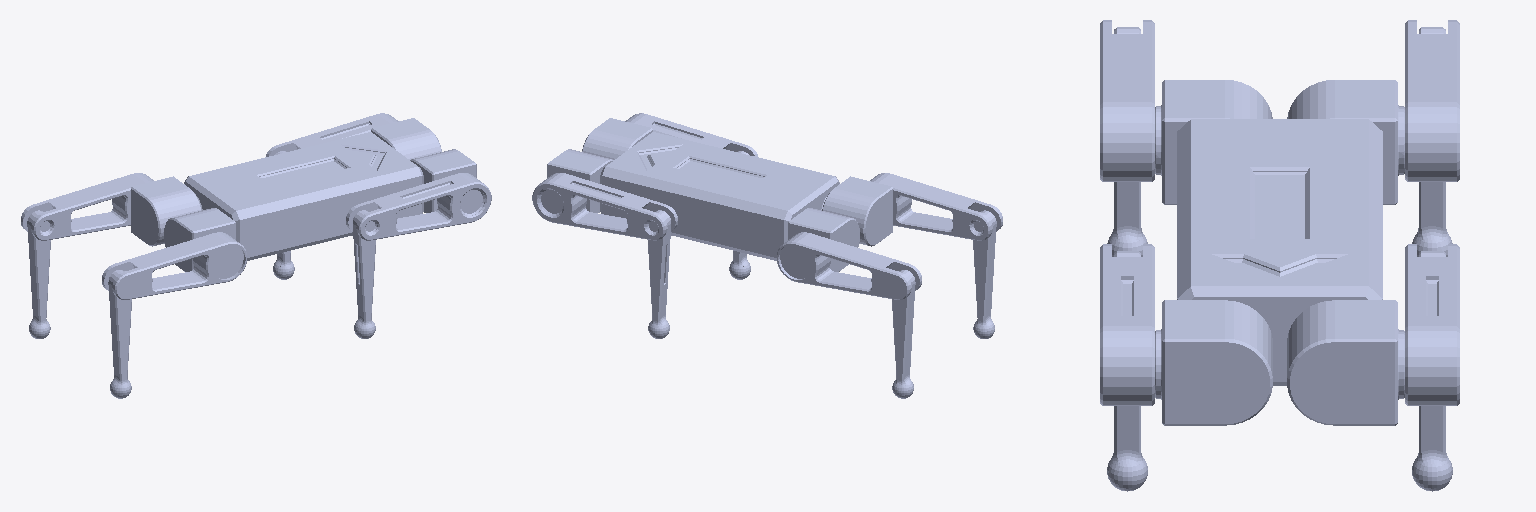
The robot description file, URDF, robot "A001_full_assem":
<?xml version="1.0" encoding="utf-8"?>
<!-- This URDF was automatically created by SolidWorks to URDF Exporter! Originally created by [author] ([email redacted]) 
     Commit Version: 1.5.1-0-g916b5db  Build Version: 1.5.7152.31018
     For more information, please see http://wiki.ros.org/sw_urdf_exporter -->
<robot
  name="A001_full_assem">
  <link
    name="body">
    <inertial>
      <origin
        xyz="-0.000174571226719436 9.06240092126826E-18 -0.000317634800286892"
        rpy="0 0 0" />
      <mass
        value="3.53421059124483" />
      <inertia
        ixx="0.0082468084514557"
        ixy="-7.60265025238063E-17"
        ixz="2.35072626787776E-05"
        iyy="0.0288201000684999"
        iyz="-1.52363759666145E-17"
        izz="0.0334951886292465" />
    </inertial>
    <visual>
      <origin
        xyz="0 0 0"
        rpy="0 0 0" />
      <geometry>
        <mesh
          filename="package://A001_full_assem/meshes/body.STL" />
      </geometry>
      <material
        name="">
        <color
          rgba="0.792156862745098 0.819607843137255 0.933333333333333 1" />
      </material>
    </visual>
    <collision>
      <origin
        xyz="0 0 0"
        rpy="0 0 0" />
      <geometry>
        <mesh
          filename="package://A001_full_assem/meshes/body.STL" />
      </geometry>
    </collision>
  </link>
  <link
    name="front_left_coxa">
    <inertial>
      <origin
        xyz="0.0101571676911325 1.29074873629562E-18 0.0360475703553503"
        rpy="0 0 0" />
      <mass
        value="0.357956566838238" />
      <inertia
        ixx="0.000267566341044879"
        ixy="-9.96989892557635E-21"
        ixz="2.38105573028357E-06"
        iyy="0.000318616541927675"
        iyz="1.14121597855963E-20"
        izz="0.000314891505706399" />
    </inertial>
    <visual>
      <origin
        xyz="0 0 0"
        rpy="0 0 0" />
      <geometry>
        <mesh
          filename="package://A001_full_assem/meshes/front_left_coxa.STL" />
      </geometry>
      <material
        name="">
        <color
          rgba="0.792156862745098 0.819607843137255 0.933333333333333 1" />
      </material>
    </visual>
    <collision>
      <origin
        xyz="0 0 0"
        rpy="0 0 0" />
      <geometry>
        <mesh
          filename="package://A001_full_assem/meshes/front_left_coxa.STL" />
      </geometry>
    </collision>
  </link>
  <joint
    name="front_left_j1"
    type="continuous">
    <origin
      xyz="0.155 0.04 0"
      rpy="1.5708 0 1.5708" />
    <parent
      link="body" />
    <child
      link="front_left_coxa" />
    <axis
      xyz="0 0 1" />
  </joint>
  <link
    name="front_left_femur">
    <inertial>
      <origin
        xyz="0.0540403586792016 -0.000392932947434519 0.000209269982925628"
        rpy="0 0 0" />
      <mass
        value="0.221779515725082" />
      <inertia
        ixx="9.24043033879767E-05"
        ixy="5.40703887251772E-07"
        ixz="7.02697694701529E-06"
        iyy="0.000826603782824903"
        iyz="-1.82367235893873E-08"
        izz="0.000859693992619264" />
    </inertial>
    <visual>
      <origin
        xyz="0 0 0"
        rpy="0 0 0" />
      <geometry>
        <mesh
          filename="package://A001_full_assem/meshes/front_left_femur.STL" />
      </geometry>
      <material
        name="">
        <color
          rgba="0.792156862745098 0.819607843137255 0.933333333333333 1" />
      </material>
    </visual>
    <collision>
      <origin
        xyz="0 0 0"
        rpy="0 0 0" />
      <geometry>
        <mesh
          filename="package://A001_full_assem/meshes/front_left_femur.STL" />
      </geometry>
    </collision>
  </link>
  <joint
    name="front_left_j2"
    type="continuous">
    <origin
      xyz="0.071 0 0.038"
      rpy="0 1.5708 0" />
    <parent
      link="front_left_coxa" />
    <child
      link="front_left_femur" />
    <axis
      xyz="0 0 1" />
  </joint>
  <link
    name="front_left_tibia">
    <inertial>
      <origin
        xyz="0.0769737322157676 -0.000161721808717277 1.38777878078145E-17"
        rpy="0 0 0" />
      <mass
        value="0.0767264004240441" />
      <inertia
        ixx="5.98334796474589E-06"
        ixy="-2.28166947954325E-07"
        ixz="-3.56496599667045E-21"
        iyy="0.000243227038063636"
        iyz="1.71305728065961E-13"
        izz="0.000243965339910109" />
    </inertial>
    <visual>
      <origin
        xyz="0 0 0"
        rpy="0 0 0" />
      <geometry>
        <mesh
          filename="package://A001_full_assem/meshes/front_left_tibia.STL" />
      </geometry>
      <material
        name="">
        <color
          rgba="0.792156862745098 0.819607843137255 0.933333333333333 1" />
      </material>
    </visual>
    <collision>
      <origin
        xyz="0 0 0"
        rpy="0 0 0" />
      <geometry>
        <mesh
          filename="package://A001_full_assem/meshes/front_left_tibia.STL" />
      </geometry>
    </collision>
  </link>
  <joint
    name="front_left_j3"
    type="continuous">
    <origin
      xyz="0.16 0 0"
      rpy="0 0 -1.5708" />
    <parent
      link="front_left_femur" />
    <child
      link="front_left_tibia" />
    <axis
      xyz="0 0 1" />
  </joint>
  <link
    name="front_right_coxa">
    <inertial>
      <origin
        xyz="0.0101571676911324 -1.93167383400936E-18 0.0360475703553503"
        rpy="0 0 0" />
      <mass
        value="0.357956566838237" />
      <inertia
        ixx="0.000267566341044878"
        ixy="1.77544371288973E-20"
        ixz="2.3810557302835E-06"
        iyy="0.000318616541927675"
        iyz="-1.22879906266724E-20"
        izz="0.000314891505706399" />
    </inertial>
    <visual>
      <origin
        xyz="0 0 0"
        rpy="0 0 0" />
      <geometry>
        <mesh
          filename="package://A001_full_assem/meshes/front_right_coxa.STL" />
      </geometry>
      <material
        name="">
        <color
          rgba="0.792156862745098 0.819607843137255 0.933333333333333 1" />
      </material>
    </visual>
    <collision>
      <origin
        xyz="0 0 0"
        rpy="0 0 0" />
      <geometry>
        <mesh
          filename="package://A001_full_assem/meshes/front_right_coxa.STL" />
      </geometry>
    </collision>
  </link>
  <joint
    name="front_right_j1"
    type="continuous">
    <origin
      xyz="0.155 -0.0399999999999995 0"
      rpy="-1.5707963267949 0 -1.57079632679489" />
    <parent
      link="body" />
    <child
      link="front_right_coxa" />
    <axis
      xyz="0 0 1" />
  </joint>
  <link
    name="front_right_femur">
    <inertial>
      <origin
        xyz="0.0540403586792016 0.000392932947434331 0.000209269982925558"
        rpy="0 0 0" />
      <mass
        value="0.221779515725082" />
      <inertia
        ixx="9.24043033879767E-05"
        ixy="-5.4070388724918E-07"
        ixz="7.02697694701628E-06"
        iyy="0.000826603782824904"
        iyz="1.82367235893569E-08"
        izz="0.000859693992619265" />
    </inertial>
    <visual>
      <origin
        xyz="0 0 0"
        rpy="0 0 0" />
      <geometry>
        <mesh
          filename="package://A001_full_assem/meshes/front_right_femur.STL" />
      </geometry>
      <material
        name="">
        <color
          rgba="0.792156862745098 0.819607843137255 0.933333333333333 1" />
      </material>
    </visual>
    <collision>
      <origin
        xyz="0 0 0"
        rpy="0 0 0" />
      <geometry>
        <mesh
          filename="package://A001_full_assem/meshes/front_right_femur.STL" />
      </geometry>
    </collision>
  </link>
  <joint
    name="front_right_j2"
    type="continuous">
    <origin
      xyz="0.071 0 0.038"
      rpy="0 1.5707963267949 0" />
    <parent
      link="front_right_coxa" />
    <child
      link="front_right_femur" />
    <axis
      xyz="0 0 1" />
  </joint>
  <link
    name="front_right_tibia">
    <inertial>
      <origin
        xyz="0.0769737291485542 0.000161721337977823 4.75390005139076E-11"
        rpy="0 0 0" />
      <mass
        value="0.0767263959082595" />
      <inertia
        ixx="5.98334790928996E-06"
        ixy="2.28168970537447E-07"
        ixz="-1.24223191388862E-13"
        iyy="0.000243227025333368"
        iyz="7.74749005378918E-14"
        izz="0.000243965326667764" />
    </inertial>
    <visual>
      <origin
        xyz="0 0 0"
        rpy="0 0 0" />
      <geometry>
        <mesh
          filename="package://A001_full_assem/meshes/front_right_tibia.STL" />
      </geometry>
      <material
        name="">
        <color
          rgba="0.792156862745098 0.819607843137255 0.933333333333333 1" />
      </material>
    </visual>
    <collision>
      <origin
        xyz="0 0 0"
        rpy="0 0 0" />
      <geometry>
        <mesh
          filename="package://A001_full_assem/meshes/front_right_tibia.STL" />
      </geometry>
    </collision>
  </link>
  <joint
    name="front_right_j3"
    type="continuous">
    <origin
      xyz="0.16 0 0"
      rpy="0 0 1.5708" />
    <parent
      link="front_right_femur" />
    <child
      link="front_right_tibia" />
    <axis
      xyz="0 0 1" />
  </joint>
  <link
    name="back_left_coxa">
    <inertial>
      <origin
        xyz="0.0101571676911324 -1.39680278333714E-18 0.0360475703553502"
        rpy="0 0 0" />
      <mass
        value="0.357956566838238" />
      <inertia
        ixx="0.000267566341044879"
        ixy="-6.75277430057797E-21"
        ixz="2.38105573028354E-06"
        iyy="0.000318616541927675"
        iyz="-1.19816855782472E-22"
        izz="0.000314891505706399" />
    </inertial>
    <visual>
      <origin
        xyz="0 0 0"
        rpy="0 0 0" />
      <geometry>
        <mesh
          filename="package://A001_full_assem/meshes/back_left_coxa.STL" />
      </geometry>
      <material
        name="">
        <color
          rgba="0.792156862745098 0.819607843137255 0.933333333333333 1" />
      </material>
    </visual>
    <collision>
      <origin
        xyz="0 0 0"
        rpy="0 0 0" />
      <geometry>
        <mesh
          filename="package://A001_full_assem/meshes/back_left_coxa.STL" />
      </geometry>
    </collision>
  </link>
  <joint
    name="back_left_j1"
    type="continuous">
    <origin
      xyz="-0.155 0.04 0"
      rpy="-1.5708 0 1.5708" />
    <parent
      link="body" />
    <child
      link="back_left_coxa" />
    <axis
      xyz="0 0 1" />
  </joint>
  <link
    name="back_left_femur">
    <inertial>
      <origin
        xyz="0.0540403586792017 -0.00039293294743452 0.000209269982925614"
        rpy="0 0 0" />
      <mass
        value="0.221779515725082" />
      <inertia
        ixx="9.24043033879768E-05"
        ixy="5.4070388725173E-07"
        ixz="7.02697694701545E-06"
        iyy="0.000826603782824904"
        iyz="-1.82367235893669E-08"
        izz="0.000859693992619265" />
    </inertial>
    <visual>
      <origin
        xyz="0 0 0"
        rpy="0 0 0" />
      <geometry>
        <mesh
          filename="package://A001_full_assem/meshes/back_left_femur.STL" />
      </geometry>
      <material
        name="">
        <color
          rgba="0.792156862745098 0.819607843137255 0.933333333333333 1" />
      </material>
    </visual>
    <collision>
      <origin
        xyz="0 0 0"
        rpy="0 0 0" />
      <geometry>
        <mesh
          filename="package://A001_full_assem/meshes/back_left_femur.STL" />
      </geometry>
    </collision>
  </link>
  <joint
    name="back_left_j2"
    type="continuous">
    <origin
      xyz="0.071 0 0.0380000000000001"
      rpy="0 -1.5707963267949 0" />
    <parent
      link="back_left_coxa" />
    <child
      link="back_left_femur" />
    <axis
      xyz="0 0 1" />
  </joint>
  <link
    name="back_left_tibia">
    <inertial>
      <origin
        xyz="0.0769737322157677 -0.000161721808717208 1.38777878078145E-17"
        rpy="0 0 0" />
      <mass
        value="0.0767264004240441" />
      <inertia
        ixx="5.98334796474589E-06"
        ixy="-2.28166947954268E-07"
        ixz="7.74731472289028E-21"
        iyy="0.000243227038063636"
        iyz="1.71305722685129E-13"
        izz="0.000243965339910108" />
    </inertial>
    <visual>
      <origin
        xyz="0 0 0"
        rpy="0 0 0" />
      <geometry>
        <mesh
          filename="package://A001_full_assem/meshes/back_left_tibia.STL" />
      </geometry>
      <material
        name="">
        <color
          rgba="0.792156862745098 0.819607843137255 0.933333333333333 1" />
      </material>
    </visual>
    <collision>
      <origin
        xyz="0 0 0"
        rpy="0 0 0" />
      <geometry>
        <mesh
          filename="package://A001_full_assem/meshes/back_left_tibia.STL" />
      </geometry>
    </collision>
  </link>
  <joint
    name="back_left_j3"
    type="continuous">
    <origin
      xyz="0.16 0 0"
      rpy="0 0 1.5707963267949" />
    <parent
      link="back_left_femur" />
    <child
      link="back_left_tibia" />
    <axis
      xyz="0 0 1" />
  </joint>
  <link
    name="back_right_coxa">
    <inertial>
      <origin
        xyz="0.0101571676911325 5.20370394582273E-19 0.0360475703553502"
        rpy="0 0 0" />
      <mass
        value="0.357956566838238" />
      <inertia
        ixx="0.000267566341044879"
        ixy="-1.13816965091098E-20"
        ixz="2.3810557302836E-06"
        iyy="0.000318616541927676"
        iyz="8.91515003141497E-21"
        izz="0.000314891505706399" />
    </inertial>
    <visual>
      <origin
        xyz="0 0 0"
        rpy="0 0 0" />
      <geometry>
        <mesh
          filename="package://A001_full_assem/meshes/back_right_coxa.STL" />
      </geometry>
      <material
        name="">
        <color
          rgba="0.792156862745098 0.819607843137255 0.933333333333333 1" />
      </material>
    </visual>
    <collision>
      <origin
        xyz="0 0 0"
        rpy="0 0 0" />
      <geometry>
        <mesh
          filename="package://A001_full_assem/meshes/back_right_coxa.STL" />
      </geometry>
    </collision>
  </link>
  <joint
    name="back_right_j1"
    type="continuous">
    <origin
      xyz="-0.155 -0.0400000000000005 0"
      rpy="1.5707963267949 0 -1.57079632679489" />
    <parent
      link="body" />
    <child
      link="back_right_coxa" />
    <axis
      xyz="0 0 1" />
  </joint>
  <link
    name="back_right_femur">
    <inertial>
      <origin
        xyz="0.0540403586792017 0.000392932947434332 0.000209269982925558"
        rpy="0 0 0" />
      <mass
        value="0.221779515725082" />
      <inertia
        ixx="9.24043033879769E-05"
        ixy="-5.40703887249155E-07"
        ixz="7.02697694701625E-06"
        iyy="0.000826603782824905"
        iyz="1.82367235893639E-08"
        izz="0.000859693992619266" />
    </inertial>
    <visual>
      <origin
        xyz="0 0 0"
        rpy="0 0 0" />
      <geometry>
        <mesh
          filename="package://A001_full_assem/meshes/back_right_femur.STL" />
      </geometry>
      <material
        name="">
        <color
          rgba="0.792156862745098 0.819607843137255 0.933333333333333 1" />
      </material>
    </visual>
    <collision>
      <origin
        xyz="0 0 0"
        rpy="0 0 0" />
      <geometry>
        <mesh
          filename="package://A001_full_assem/meshes/back_right_femur.STL" />
      </geometry>
    </collision>
  </link>
  <joint
    name="back_right_j2"
    type="continuous">
    <origin
      xyz="0.071 0 0.038"
      rpy="0 -1.5707963267949 0" />
    <parent
      link="back_right_coxa" />
    <child
      link="back_right_femur" />
    <axis
      xyz="0 0 1" />
  </joint>
  <link
    name="back_right_tibia">
    <inertial>
      <origin
        xyz="0.0769737291485542 0.000161721337977927 4.75389311249685E-11"
        rpy="0 0 0" />
      <mass
        value="0.0767263959082593" />
      <inertia
        ixx="5.98334790928995E-06"
        ixy="2.28168970537263E-07"
        ixz="-1.24223241897431E-13"
        iyy="0.000243227025333368"
        iyz="7.7474888757983E-14"
        izz="0.000243965326667764" />
    </inertial>
    <visual>
      <origin
        xyz="0 0 0"
        rpy="0 0 0" />
      <geometry>
        <mesh
          filename="package://A001_full_assem/meshes/back_right_tibia.STL" />
      </geometry>
      <material
        name="">
        <color
          rgba="0.792156862745098 0.819607843137255 0.933333333333333 1" />
      </material>
    </visual>
    <collision>
      <origin
        xyz="0 0 0"
        rpy="0 0 0" />
      <geometry>
        <mesh
          filename="package://A001_full_assem/meshes/back_right_tibia.STL" />
      </geometry>
    </collision>
  </link>
  <joint
    name="back_right_j3"
    type="continuous">
    <origin
      xyz="0.16 0 0"
      rpy="0 0 -1.5707963267949" />
    <parent
      link="back_right_femur" />
    <child
      link="back_right_tibia" />
    <axis
      xyz="0 0 1" />
  </joint>
</robot>

--- Render facts (derived) ---
3 views of the same robot in one strip: view 1: azimuth 30°, elevation 25°; view 2: azimuth 150°, elevation 25°; view 3: azimuth 270°, elevation 25° (orthographic).
Robot: A001_full_assem — 13 links, 12 joints (12 continuous); root link body; default pose: all joints at 0.
Visible links, largest first — view 1: body, front_right_femur, back_right_femur, back_left_femur, back_left_coxa, back_right_tibia, front_right_tibia, back_left_tibia, back_right_coxa, front_left_coxa, front_left_femur, front_right_coxa; view 2: body, front_left_femur, back_left_femur, back_right_femur, back_right_coxa, back_left_tibia, back_right_tibia, front_left_tibia, back_left_coxa, front_right_coxa, front_right_femur, front_left_coxa; view 3: body, front_left_coxa, front_right_coxa, front_left_femur, front_right_femur, back_left_femur, back_right_femur, back_left_coxa, back_right_coxa, front_left_tibia, front_right_tibia, back_left_tibia (+1 smaller).
Boxes of the visible links, box(x1,y1,x2,y2) form: body: box(184, 132, 423, 260); front_right_femur: box(346, 173, 491, 240); back_right_femur: box(102, 232, 246, 299); back_left_femur: box(21, 173, 153, 240); back_left_coxa: box(131, 176, 201, 246); back_right_tibia: box(108, 270, 131, 398); front_right_tibia: box(353, 210, 375, 338); back_left_tibia: box(27, 210, 50, 338); back_right_coxa: box(164, 208, 235, 271); front_left_coxa: box(371, 118, 441, 159); front_left_femur: box(266, 113, 398, 156); front_right_coxa: box(410, 149, 476, 212); body: box(600, 132, 839, 260); front_left_femur: box(532, 173, 677, 240); back_left_femur: box(777, 232, 921, 299); back_right_femur: box(870, 173, 1002, 240); back_right_coxa: box(822, 176, 892, 246); back_left_tibia: box(892, 270, 915, 398); back_right_tibia: box(973, 210, 996, 338); front_left_tibia: box(648, 210, 670, 338); back_left_coxa: box(788, 208, 859, 271); front_right_coxa: box(582, 118, 652, 159); front_right_femur: box(625, 113, 757, 156); front_left_coxa: box(547, 149, 613, 212); body: box(1177, 119, 1382, 385); front_left_coxa: box(1287, 300, 1404, 425); front_right_coxa: box(1155, 300, 1272, 425); front_left_femur: box(1405, 244, 1459, 405); front_right_femur: box(1100, 244, 1154, 405); back_left_femur: box(1405, 20, 1459, 181); back_right_femur: box(1100, 20, 1154, 181); back_left_coxa: box(1287, 80, 1404, 204); back_right_coxa: box(1155, 80, 1272, 204); front_left_tibia: box(1412, 251, 1452, 491); front_right_tibia: box(1107, 251, 1147, 491); back_left_tibia: box(1412, 27, 1452, 256).
Bounding box of the posed robot: 0.598 × 0.262 × 0.215 m (x, y, z).
13 mesh visuals loaded from 13 distinct referenced files (13 binary STL).